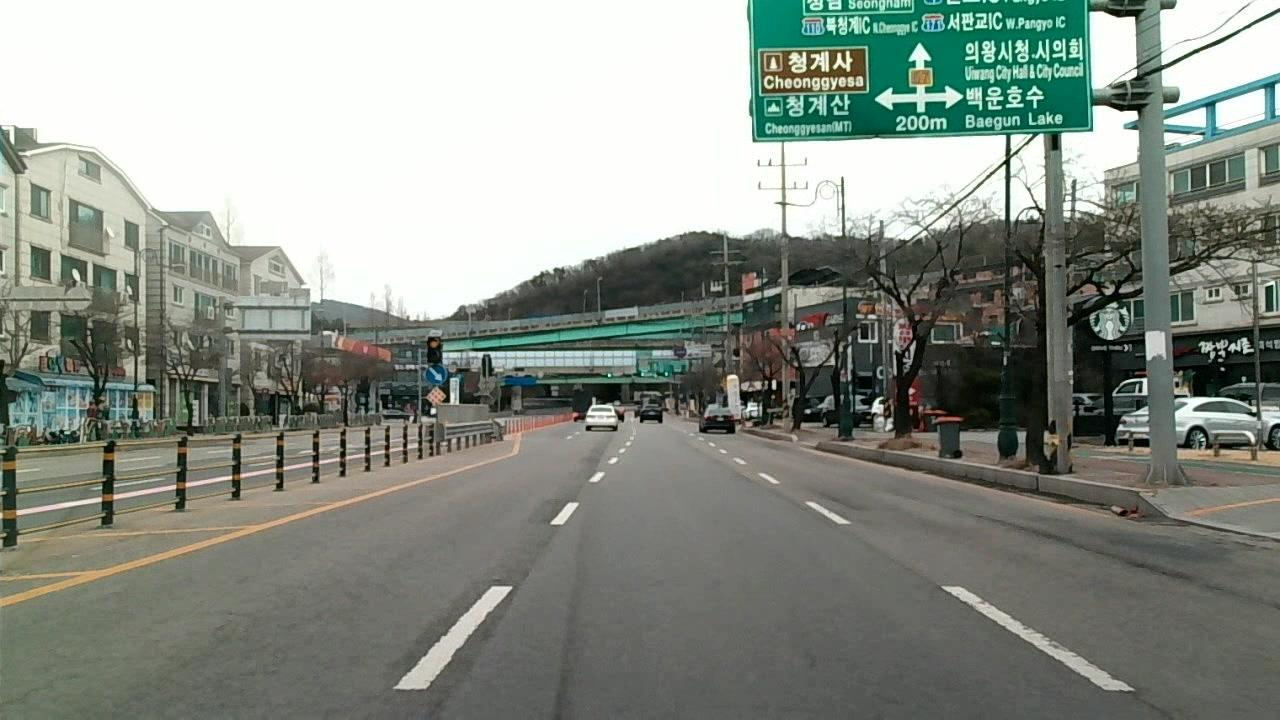vcrack: (994, 516, 1172, 577)
